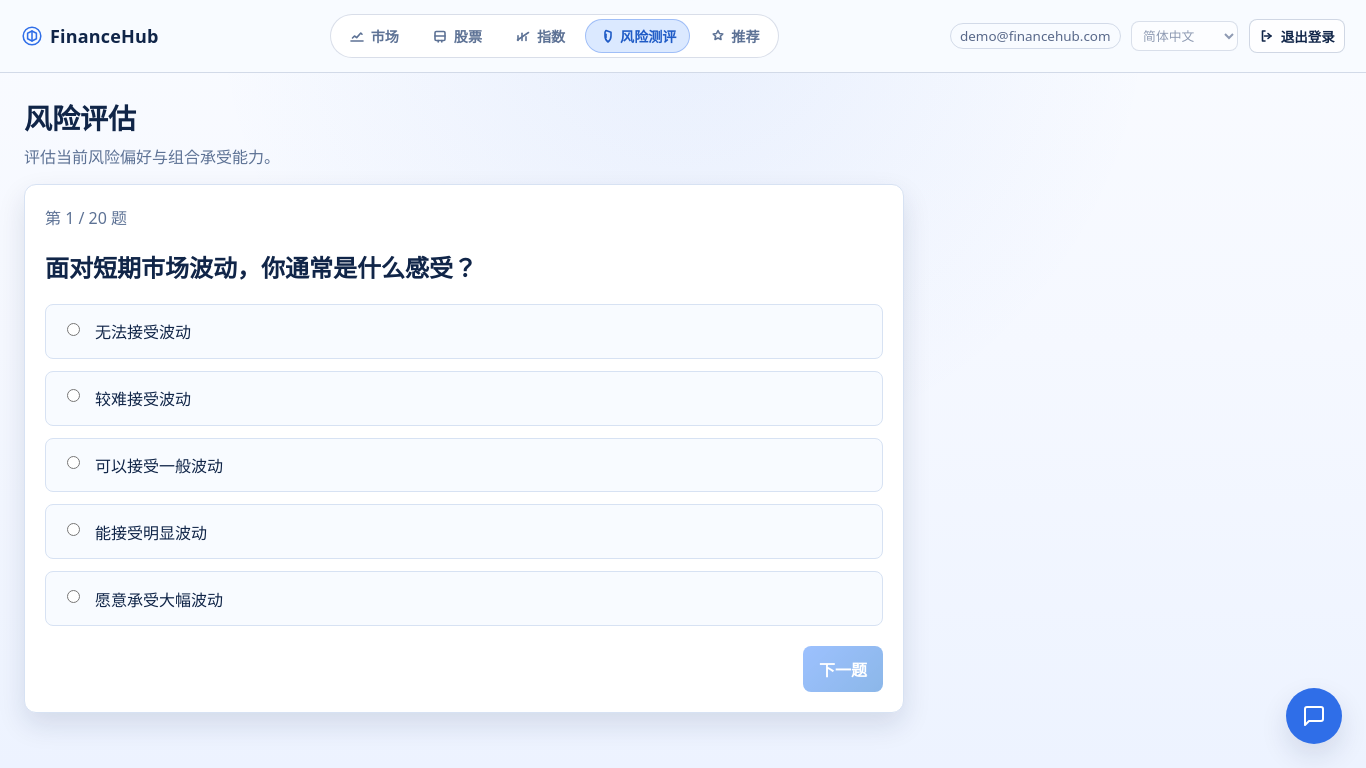
Test case: App localization › shows the expanded questionnaire progress in English
Select "English (US)" in the dropdown at (1185, 36), box [1131,21,1238,51]
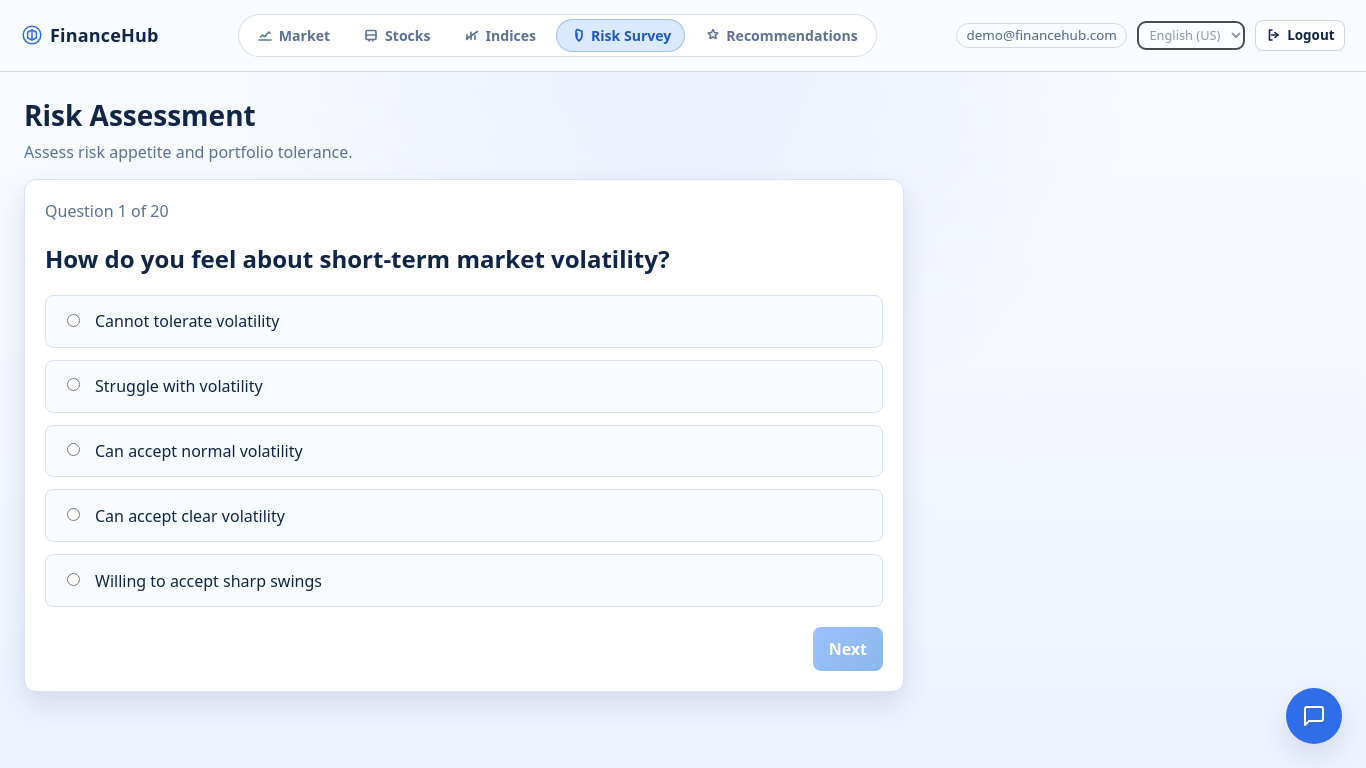
Expected: the text "Question 1 of 20" is shown, [45,200,169,222]
